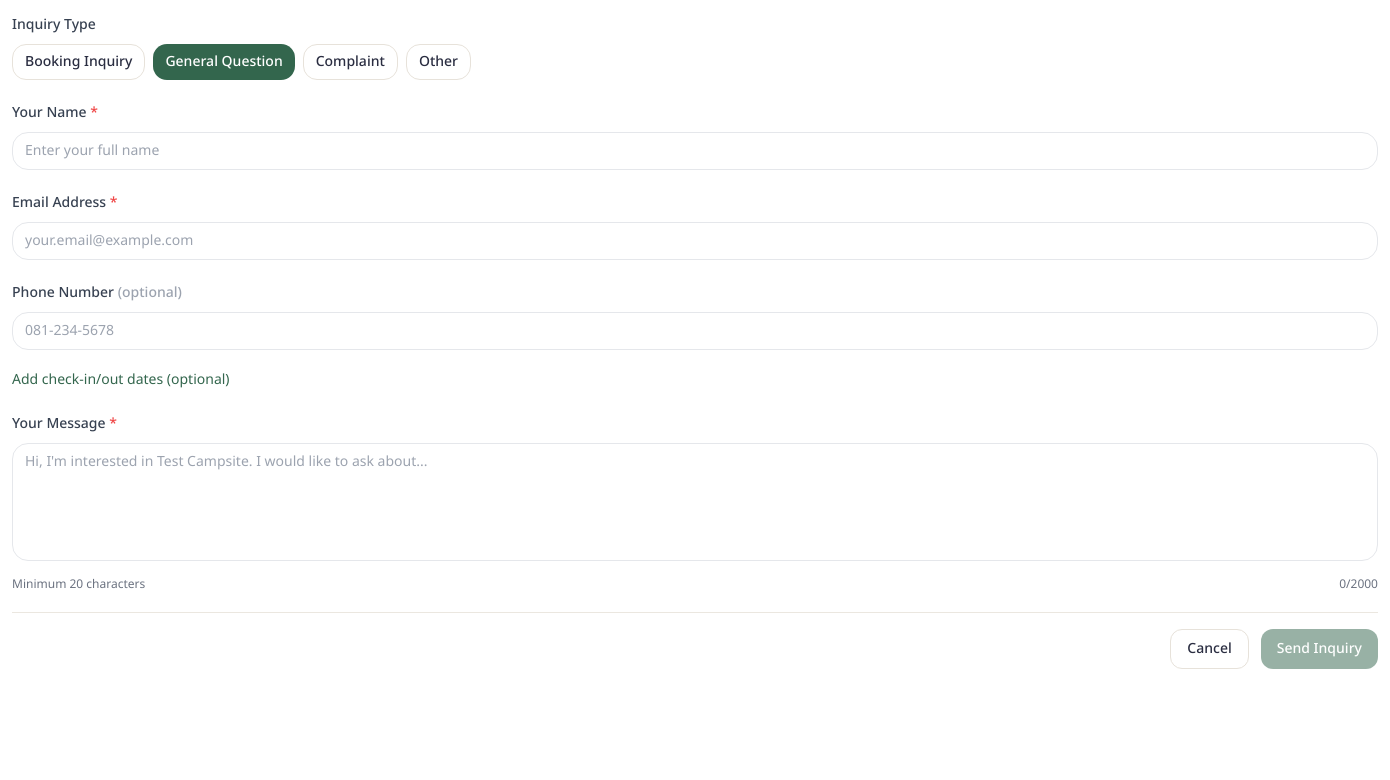
Test case: InquiryForm Character Counter › Counter integration with form › updates counter when clearing textarea
Type "Some text to clear" into the text box labelled "Your Message *". click: x=695, y=502
box: top-left (12, 443), bottom-right (1378, 561)
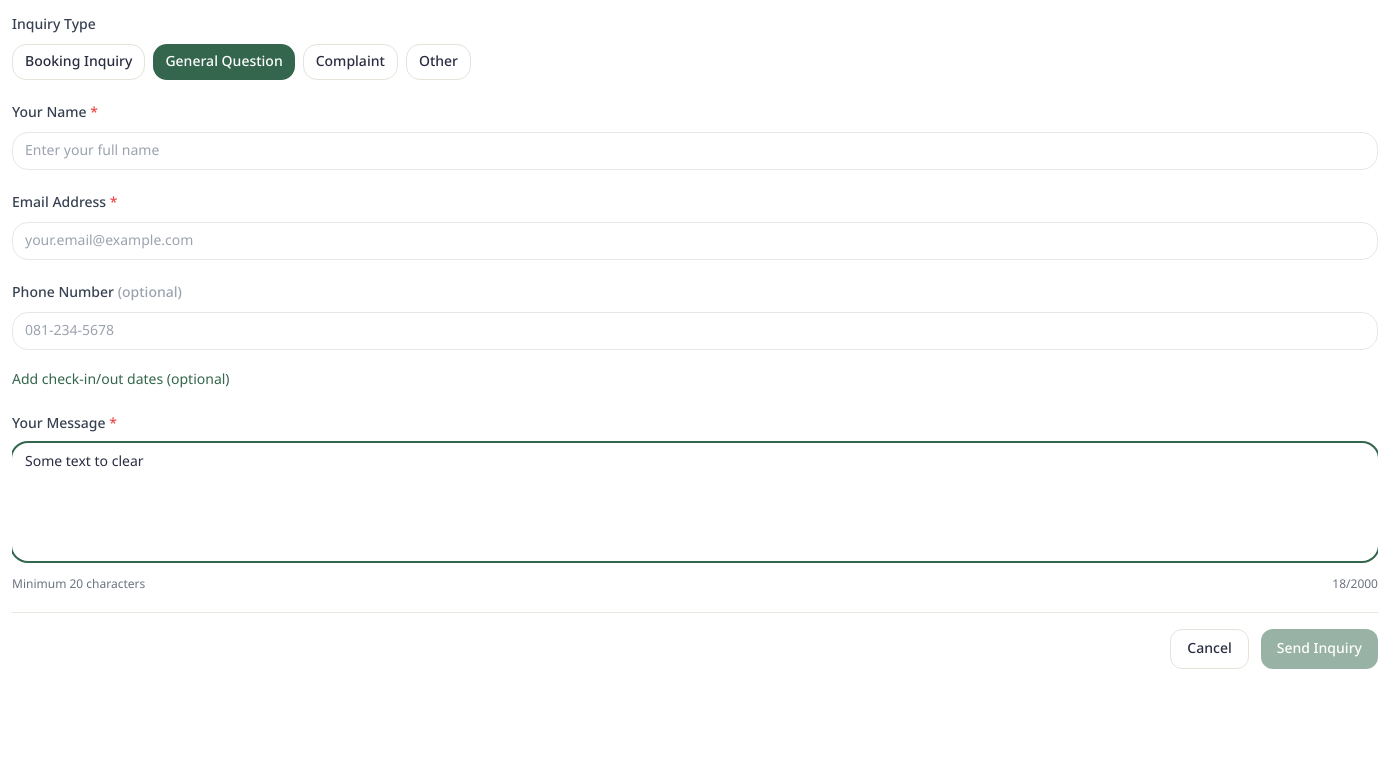
Now the text "18/2000" is shown, box top-left (1332, 576), bottom-right (1378, 592)
Clear the text box labelled "Your Message *". click: x=695, y=502
box: top-left (12, 443), bottom-right (1378, 561)
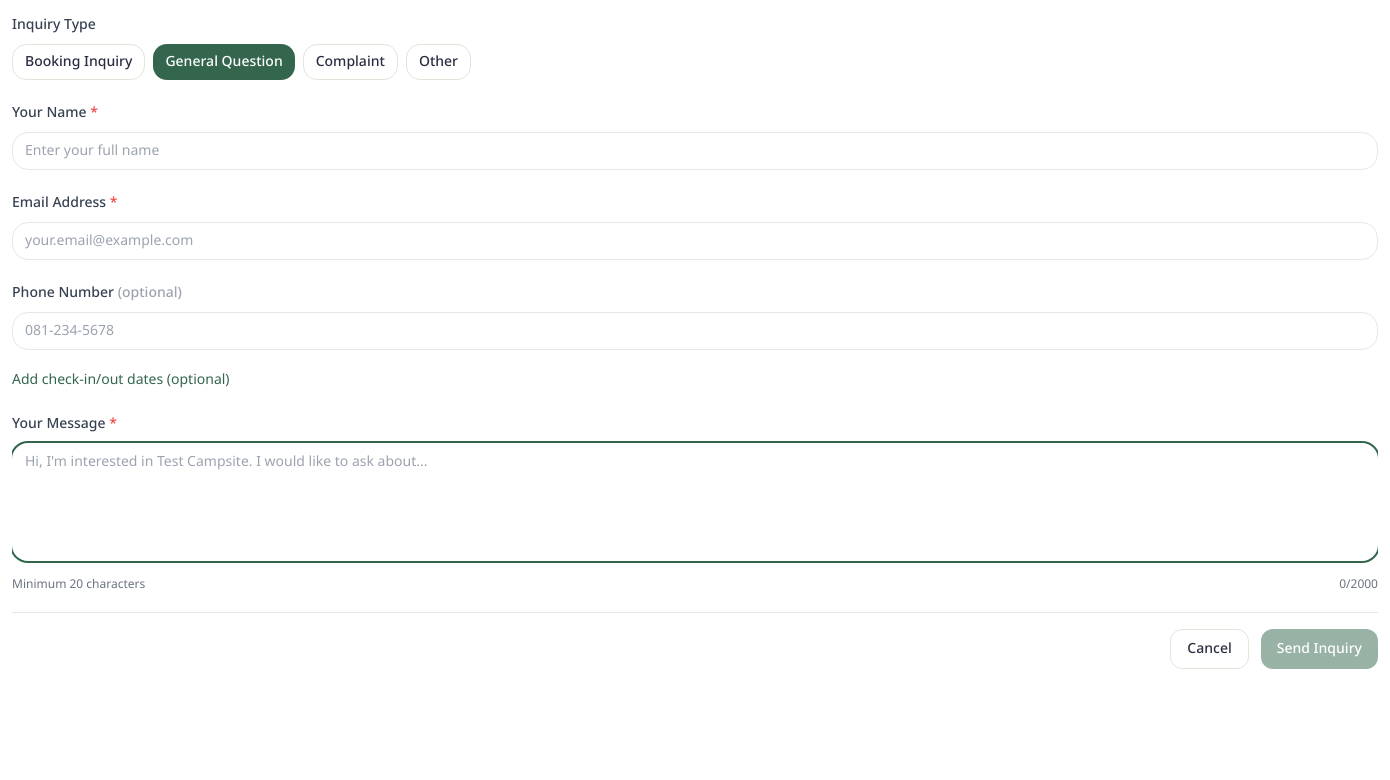
Now the text "0/2000" is shown, box top-left (1339, 576), bottom-right (1378, 592)
